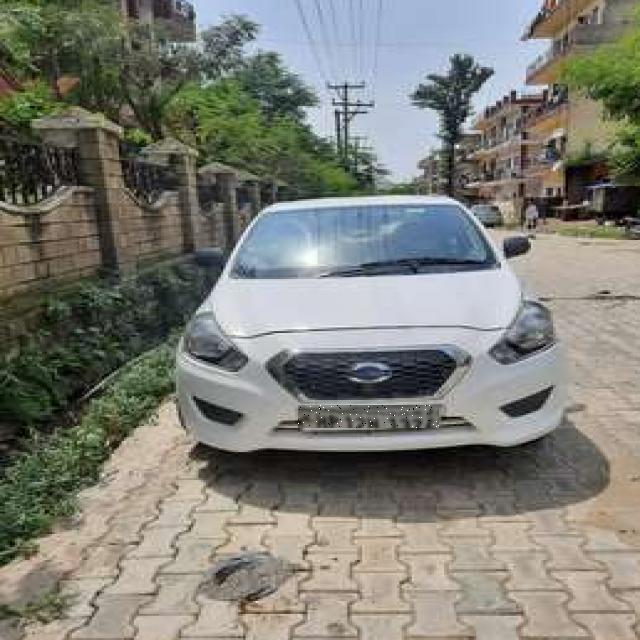Plate: (299, 406, 440, 429)
